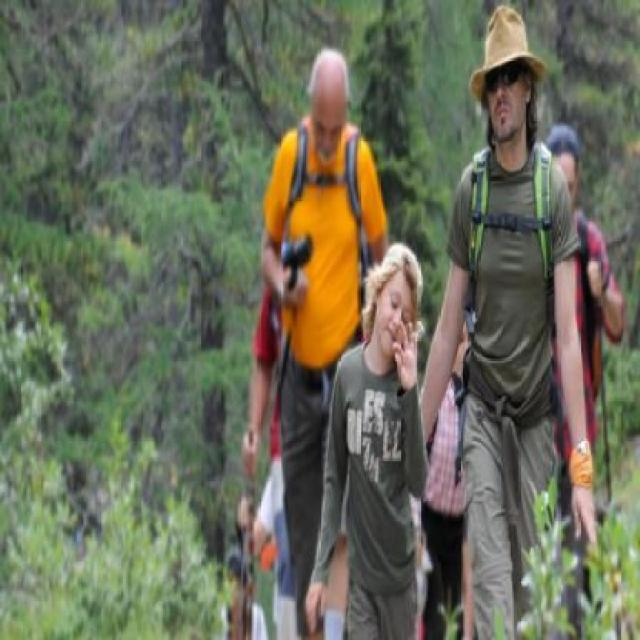backpack: (531, 133, 555, 284), (466, 143, 492, 279), (576, 209, 596, 334), (345, 129, 363, 229), (292, 124, 308, 213)
